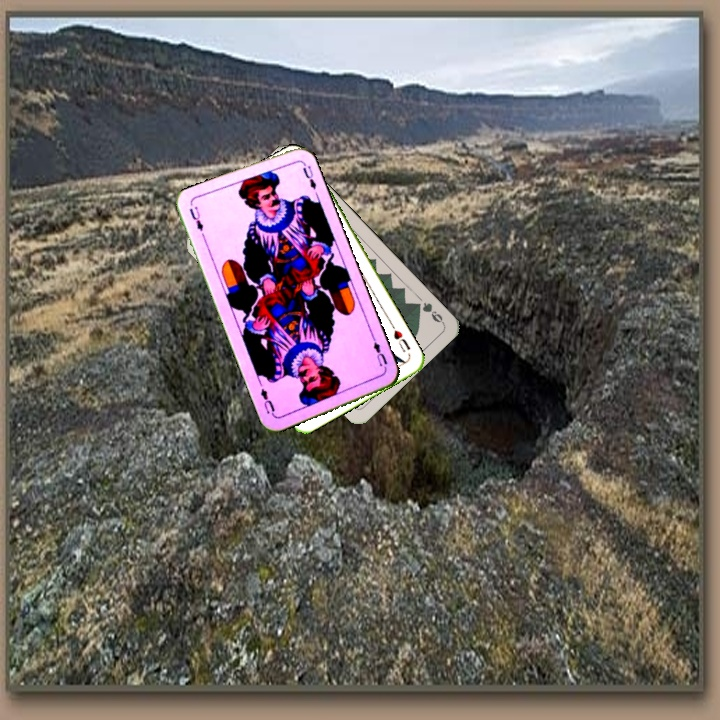EU: (368, 333, 390, 372), (185, 202, 206, 234)
G9: (410, 298, 446, 326)
HU: (387, 321, 413, 355)
